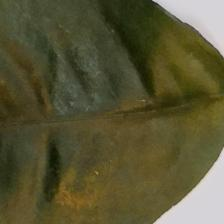healthy: (4, 4, 175, 194)
